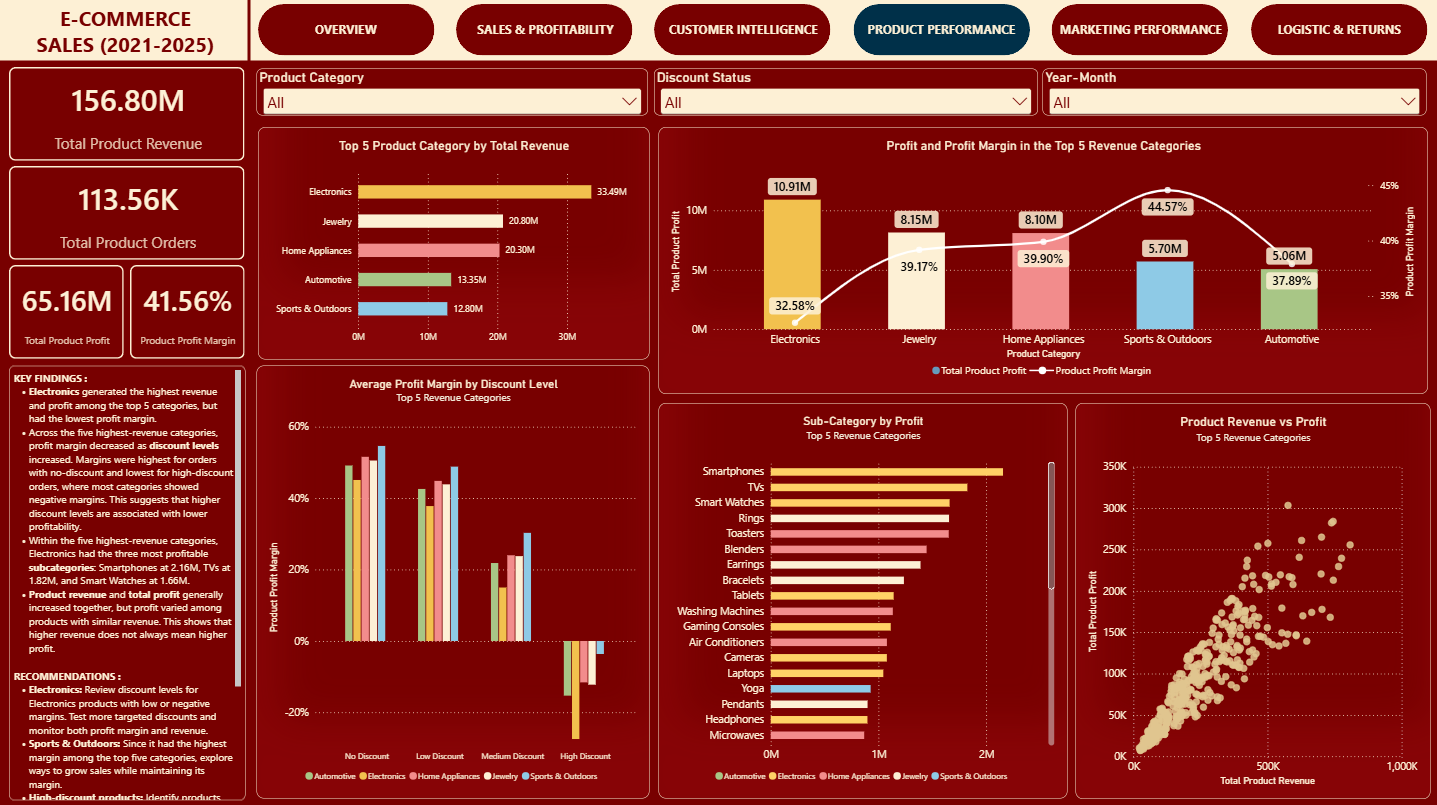

Layout of this report page (visuals, bound fields, positions):
{"tool":"powerbi","page":{"name":"Product Performance","canvas":[1920,1080],"ordinal":3},"visuals":[{"type":"shape","box":[0,0,1919.4,83.6],"z":0},{"type":"cardVisual","fields":{"Data":["Measure.Total Sales"]},"box":[11,92.4,314.8,125.5],"z":1000},{"type":"cardVisual","fields":{"Data":["Measure - Order.Product Orders"]},"box":[11,224.5,314.8,125.5],"z":2000},{"type":"cardVisual","fields":{"Data":["Measure - Order.Product Profit","Measure - Order.Product Profit Margin"]},"box":[11,356.6,314.8,125.5],"z":3000},{"type":"textbox","box":[0,0,334.6,83.6],"z":4000},{"type":"shape","box":[272.9,0,120,84],"z":5000},{"type":"textbox","box":[12.1,490.1,315.4,579.9],"z":6000},{"type":"barChart","title":"Top 5 Product Category by Total Revenue","fields":{"Category":["product_catalog_clean.product_category"],"Y":["Measure - Order.Total Product Sales"]},"box":[343.2,172.6,521.7,309.9],"z":7000},{"type":"lineClusteredColumnComboChart","title":"Profit and Profit Margin in the Top 5 Revenue Categories","fields":{"Category":["product_catalog_clean.product_category"],"Y":["Measure - Order.Total Product Profit"],"Y2":["Measure - Order.Product Profit Margin"]},"box":[878.6,172.6,1026.2,356],"z":8000},{"type":"slicer","title":"Product Category","fields":{"Values":["product_catalog_clean.product_category"]},"box":[342.3,94.4,521.7,62.8],"z":9000},{"type":"barChart","title":"Sub-Category by Profit","fields":{"Category":["product_catalog_clean.product_subcategory"],"Series":["product_catalog_clean.product_category"],"Y":["Measure - Order.Total Product Profit"]},"box":[878.7,539.4,545.2,527.6],"z":10000},{"type":"clusteredColumnChart","title":"Average Profit Margin by Discount Level","fields":{"Category":["order_items_clean.Discount Status"],"Series":["product_catalog_clean.product_category"],"Y":["Measure - Order.Product Profit Margin"]},"box":[342.9,490,524.3,577.1],"z":11000},{"type":"shape","box":[343.2,8.2,235.4,68.6],"z":12000},{"type":"textbox","box":[317.7,15.7,286.3,60.8],"z":13000},{"type":"shape","box":[1667.1,8.2,235.4,68.6],"z":14000},{"type":"shape","box":[872.8,8.2,235.4,68.6],"z":15000},{"type":"shape","box":[1137.6,8.2,235.4,68.6],"z":16000},{"type":"shape","box":[1402.3,8.2,235.4,68.6],"z":17000},{"type":"shape","box":[608,8.2,235.4,68.6],"z":18000},{"type":"textbox","box":[583.3,15.4,286.3,60.8],"z":19000},{"type":"textbox","box":[847.4,15.4,286.3,60.8],"z":20000},{"type":"textbox","box":[1111.6,15.4,286.3,60.8],"z":21000},{"type":"textbox","box":[1377.9,15.4,286.3,60.8],"z":22000},{"type":"textbox","box":[1657.5,15.4,255.3,61.6],"z":23000},{"type":"actionButton","box":[610,15.7,233.4,54.9],"z":24000},{"type":"actionButton","box":[345.2,15.7,233.4,56.9],"z":25000},{"type":"actionButton","box":[868.9,15.7,233.4,54.9],"z":26000},{"type":"actionButton","box":[1404.3,15.7,233.4,56.9],"z":27000},{"type":"actionButton","box":[1671,15.7,233.4,56.9],"z":28000},{"type":"slicer","title":"Discount Status","fields":{"Values":["order_items_clean.Discount Status"]},"box":[872.8,94.1,511.9,62.8],"z":29000},{"type":"slicer","title":"Year-Month","fields":{"Values":["Date.Date.Variation.Date Hierarchy.Year","Date.Date.Variation.Date Hierarchy.Month"]},"box":[1390.6,94.1,511.9,62.8],"z":30000},{"type":"scatterChart","title":"Product Revenue vs Profit","fields":{"Category":["product_catalog_clean.product_id"],"X":["Measure - Order.Total Product Revenue"],"Y":["Measure - Order.Total Product Profit"]},"box":[1433.8,539.4,473.2,528.2],"z":31000}]}

Visuals, with their boxes in screenshot pixels (x1, y1, x2, y2), scaled from the page's 1920x1080 canvas onto the 1437x805 screenshot:
shape: (0,0,1436,62)
cardVisual - Measure.Total Sales: (8,69,244,162)
cardVisual - Measure - Order.Product Orders: (8,167,244,261)
cardVisual - Measure - Order.Product Profit x Measure - Order.Product Profit Margin: (8,266,244,359)
textbox: (0,0,250,62)
shape: (204,0,294,63)
textbox: (9,365,245,798)
"Top 5 Product Category by Total Revenue" barChart: (257,129,647,360)
"Profit and Profit Margin in the Top 5 Revenue Categories" lineClusteredColumnComboChart: (658,129,1426,394)
"Product Category" slicer: (256,70,647,117)
"Sub-Category by Profit" barChart: (658,402,1066,795)
"Average Profit Margin by Discount Level" clusteredColumnChart: (257,365,649,795)
shape: (257,6,433,57)
textbox: (238,12,452,57)
shape: (1248,6,1424,57)
shape: (653,6,829,57)
shape: (851,6,1028,57)
shape: (1050,6,1226,57)
shape: (455,6,631,57)
textbox: (437,11,651,57)
textbox: (634,11,849,57)
textbox: (832,11,1046,57)
textbox: (1031,11,1246,57)
textbox: (1241,11,1432,57)
actionButton: (457,12,631,53)
actionButton: (258,12,433,54)
actionButton: (650,12,825,53)
actionButton: (1051,12,1226,54)
actionButton: (1251,12,1425,54)
"Discount Status" slicer: (653,70,1036,117)
"Year-Month" slicer: (1041,70,1424,117)
"Product Revenue vs Profit" scatterChart: (1073,402,1427,796)
